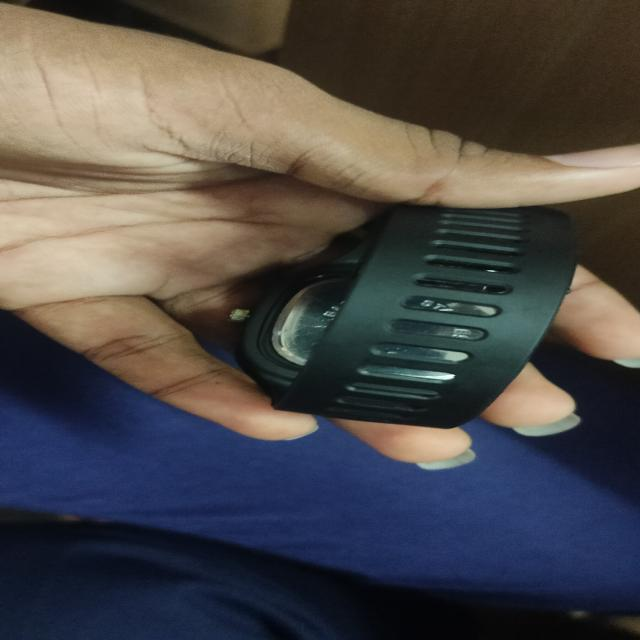Watch: (232, 190, 576, 429)
